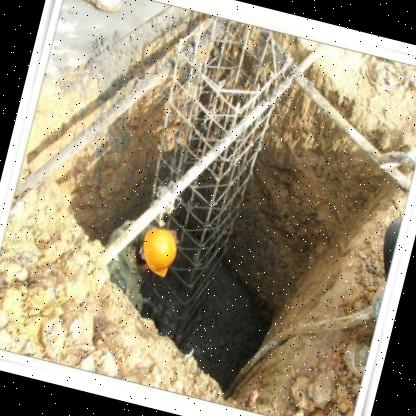capacete: (123, 218, 184, 285)
